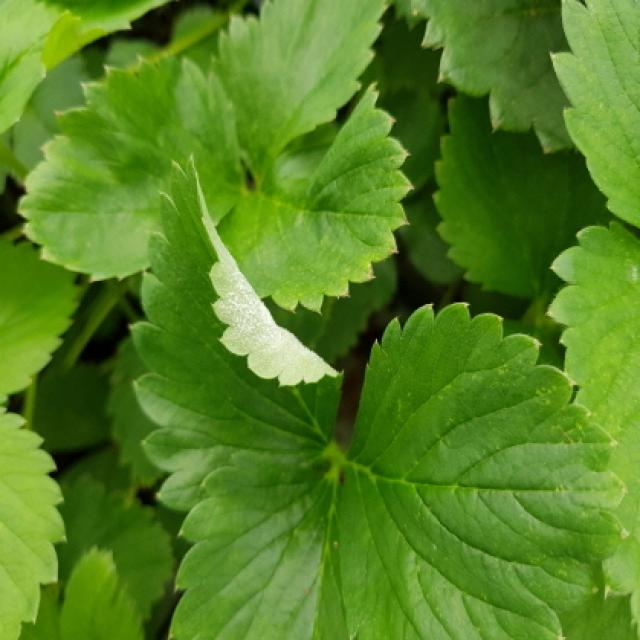Powdery Mildew Leaf: (125, 151, 345, 514)
